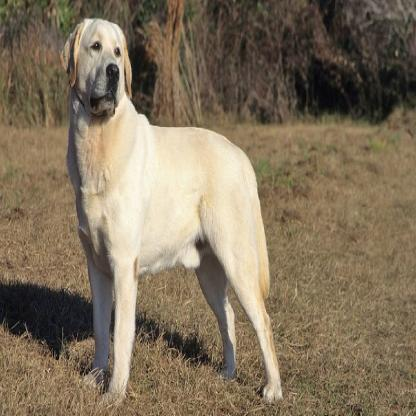Labarador Retriever: (61, 16, 280, 403)
